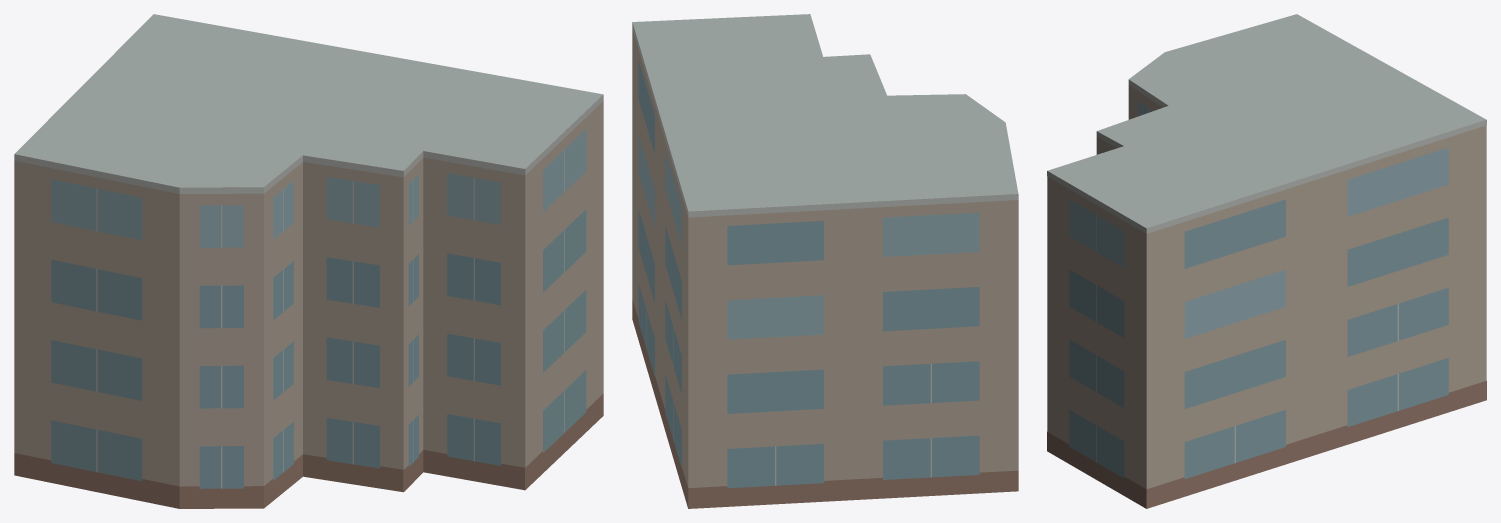
The model's file is survey-upis-32928333.glb.
3 renders of one model, left to right at view 1: azimuth 30°, elevation 25°; view 2: azimuth 150°, elevation 25°; view 3: azimuth 270°, elevation 25°, orthographic. The views are drawn at different scales.
Parts seen in each view (by area): view 1: survey-upis-32928333.tmp; view 2: survey-upis-32928333.tmp; view 3: survey-upis-32928333.tmp.
Part boxes in pixels (<box>): survey-upis-32928333.tmp: <box>14,14,603,508</box>; survey-upis-32928333.tmp: <box>632,14,1018,508</box>; survey-upis-32928333.tmp: <box>1047,14,1486,508</box>.
Size of the model in its own units: 20.01 by 12.2 by 17.34.
